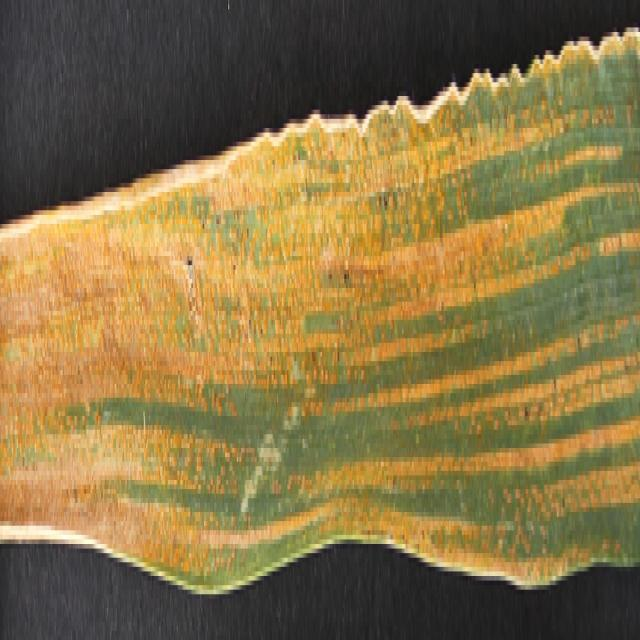leaf rust: (0, 82, 640, 571)
